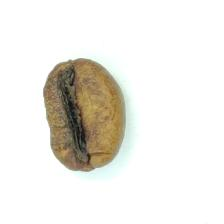NG: (43, 63, 94, 174)
